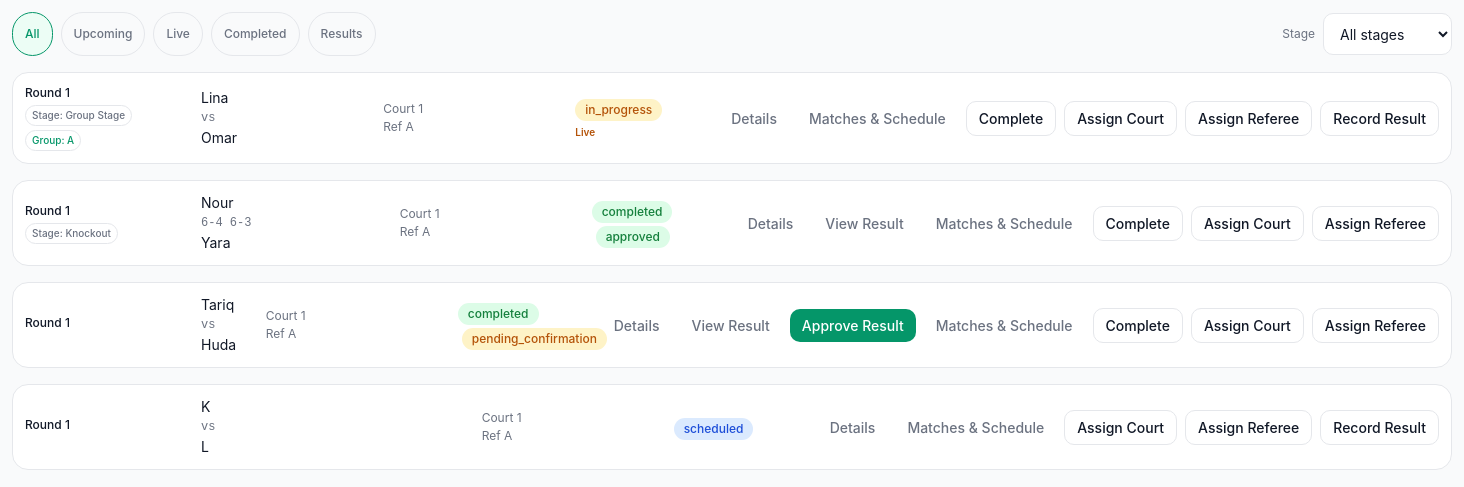
it: Tournament Hub MatchesManager (Step 3C) › 2. segments filter the same loaded data (one fetch)
expect the text "Lina" is shown: met, box [201,89,228,106]
Click the button "Live". click: click(178, 34)
box: [153,12,203,56]
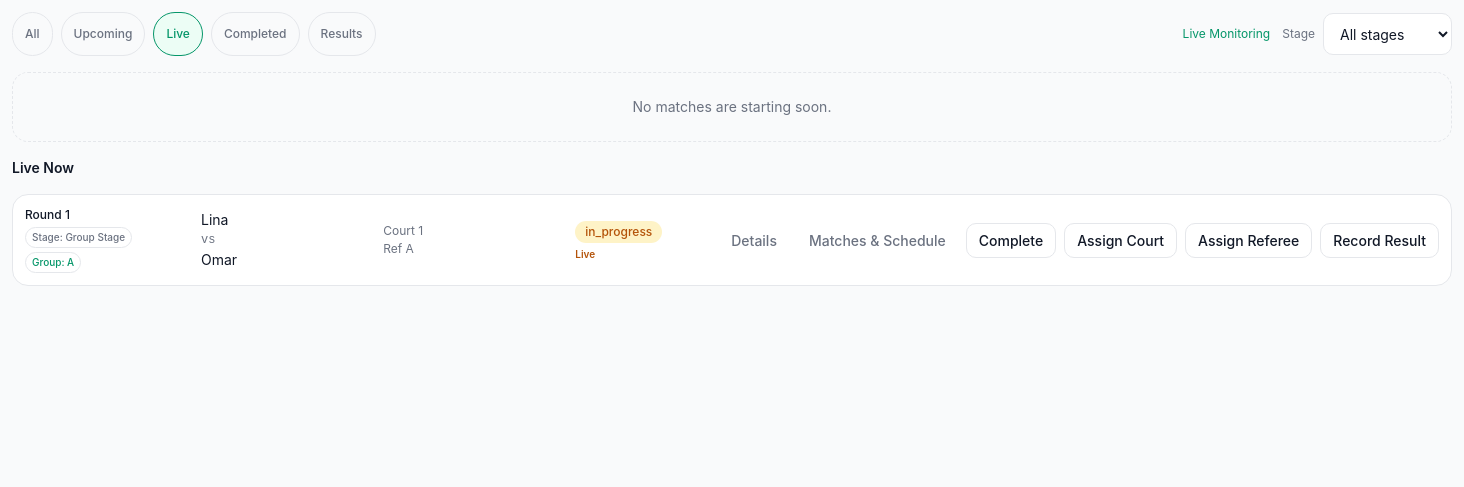
expect the text "Lina" is shown: met, box [201,211,228,228]
expect the text "K" is gone: met
Click the button "Upcoming". click: click(103, 34)
box: [61,12,145,56]
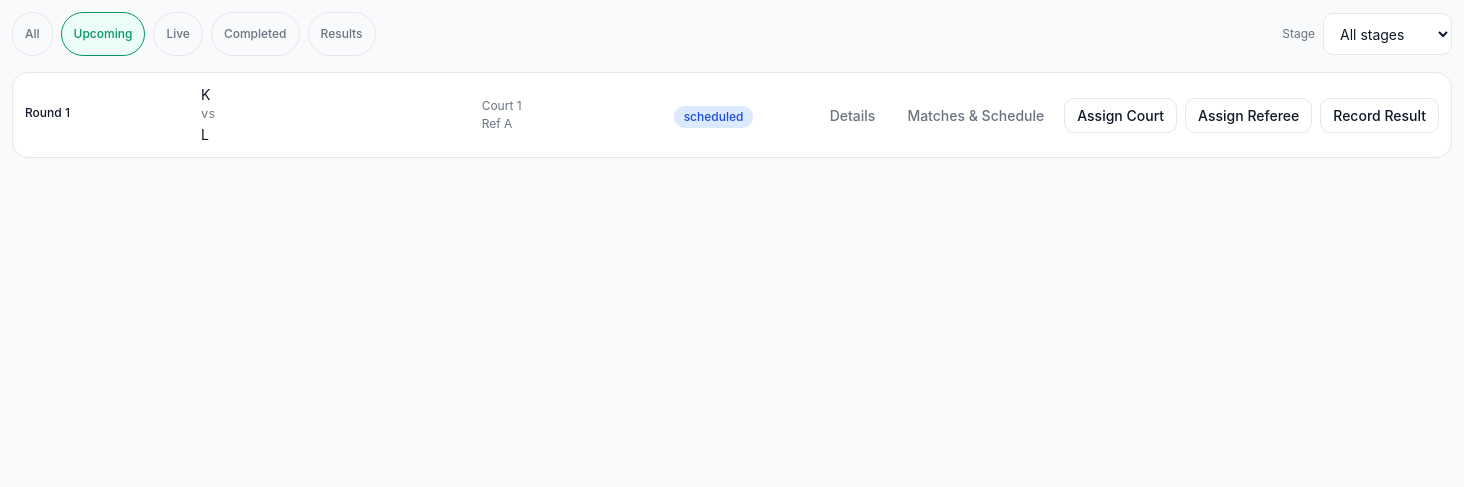
expect the text "K" is shown: met, box [201,86,210,103]
expect the text "Lina" is gone: met
Click the button "Completed". click: click(255, 34)
box: [211,12,300,56]
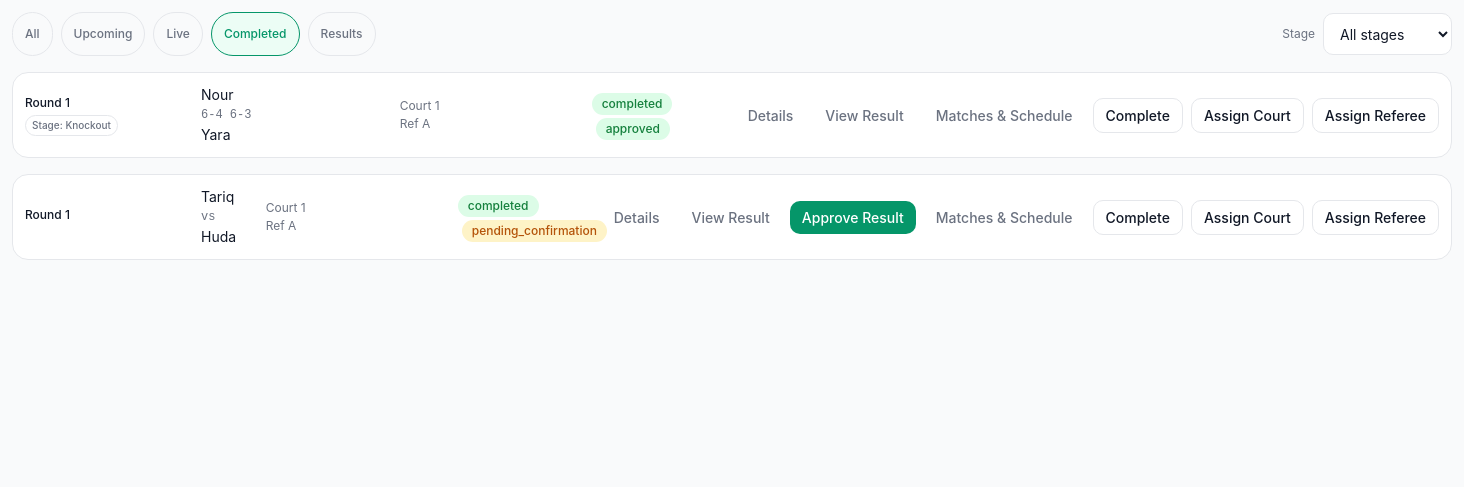
expect the text "Nour" is shown: met, box [201,86,234,103]
expect the text "Tariq" is shown: met, box [201,188,234,205]
Click the button "Results". click: click(342, 34)
box: [308,12,376,56]
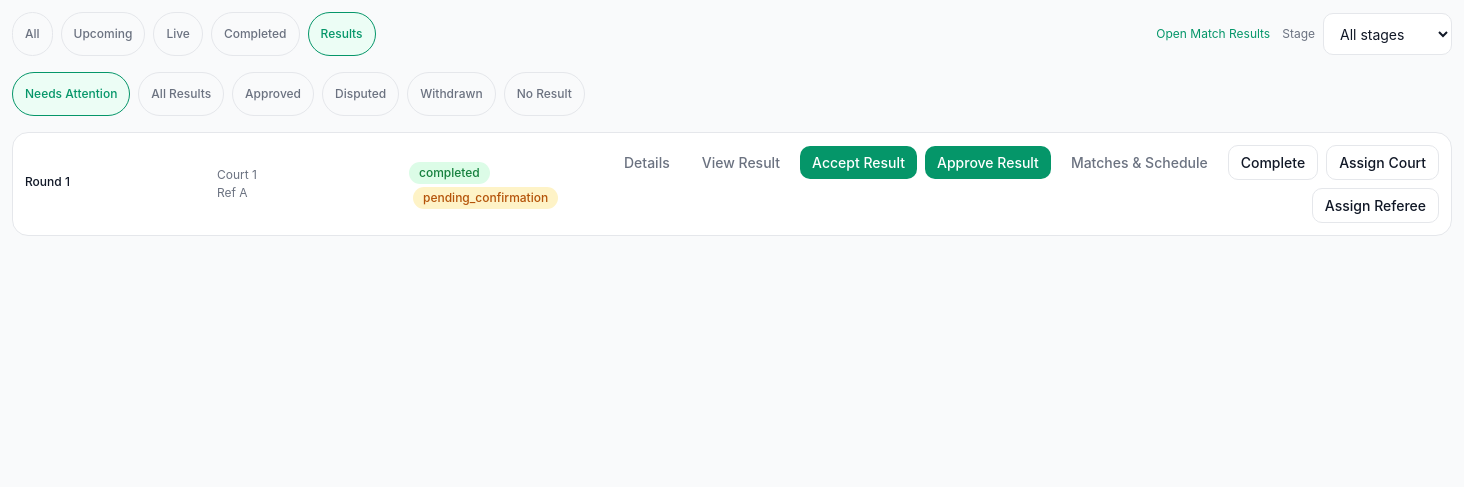
expect the text "K" is gone: met
